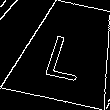L_N: (40, 24, 95, 81)
